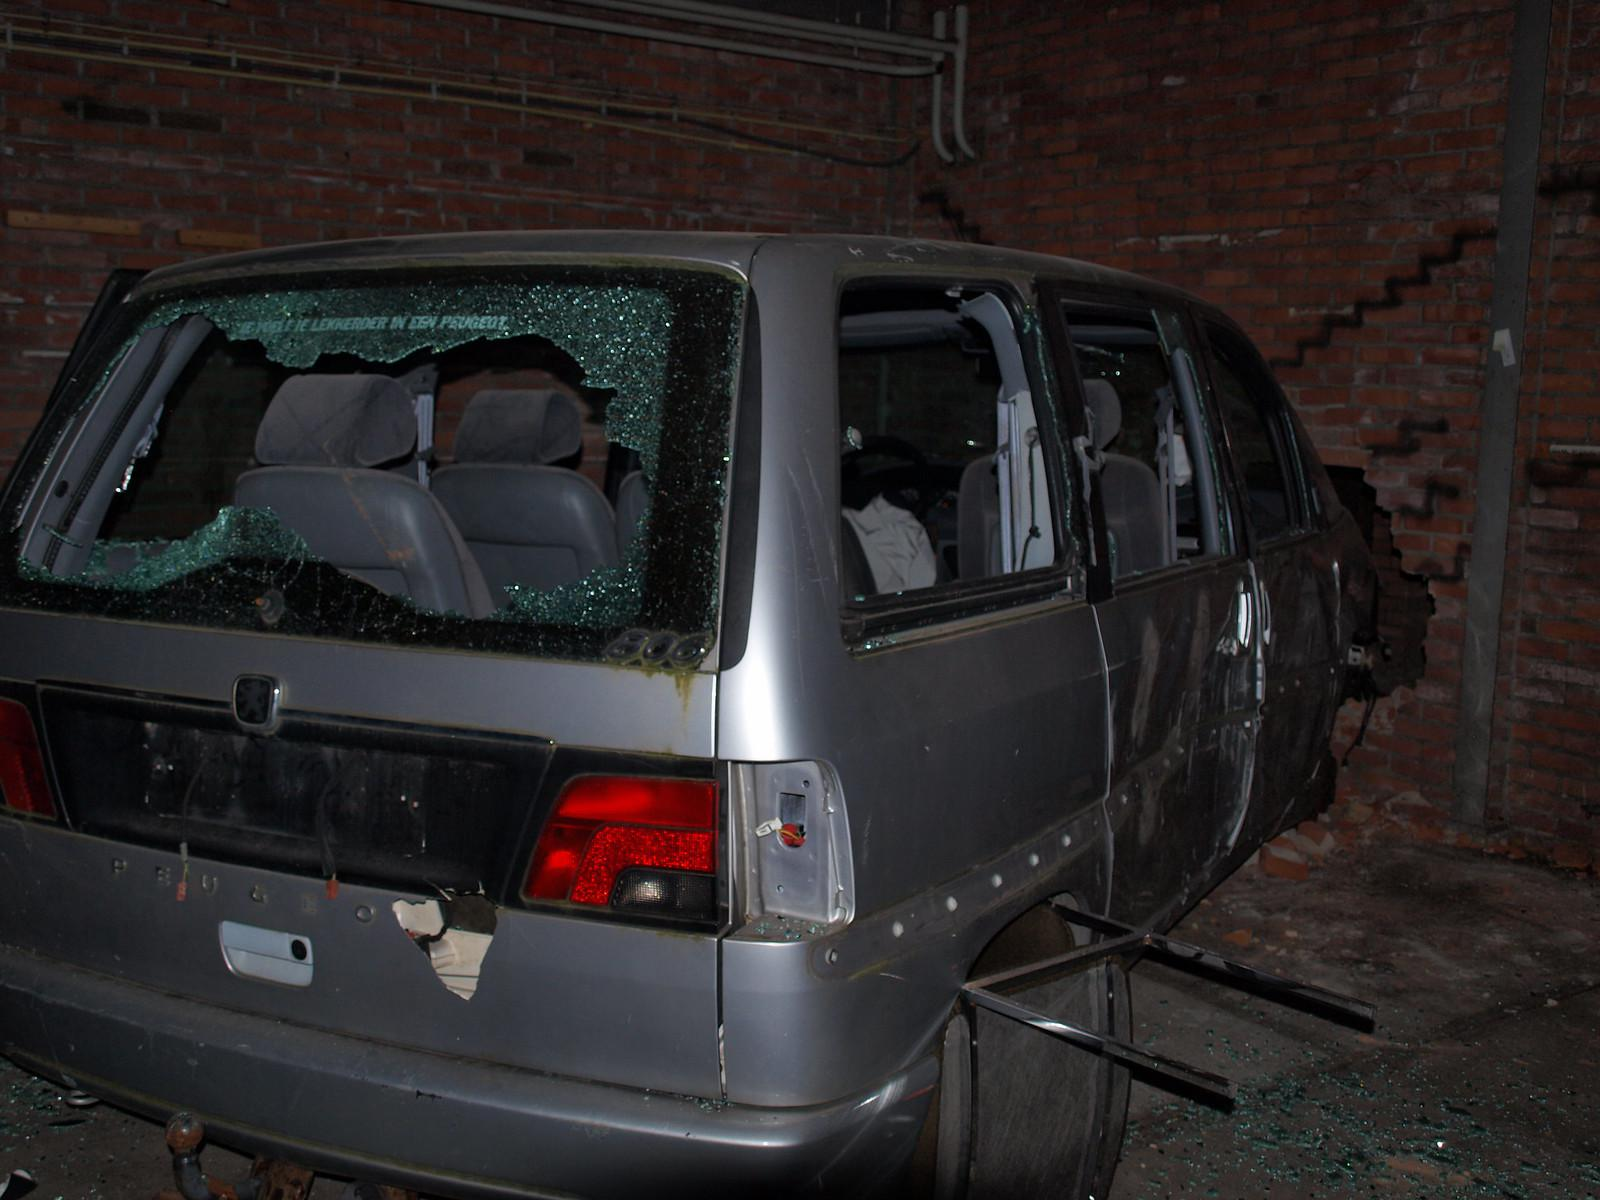Headlight-Damage: (651, 756, 883, 966)
Rear-windscreen-Damage: (50, 260, 683, 620)
doorouter-dent: (1128, 567, 1323, 860)
rear-bumper-dent: (0, 661, 729, 1126)
